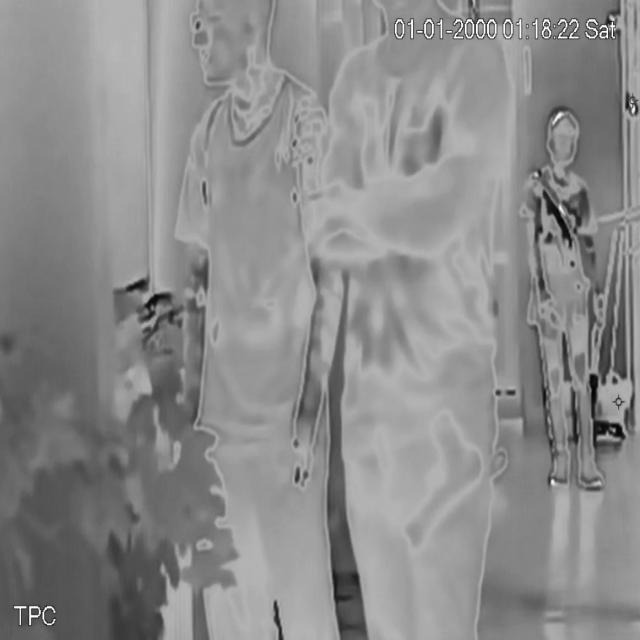Weapon: (405, 401, 486, 558)
